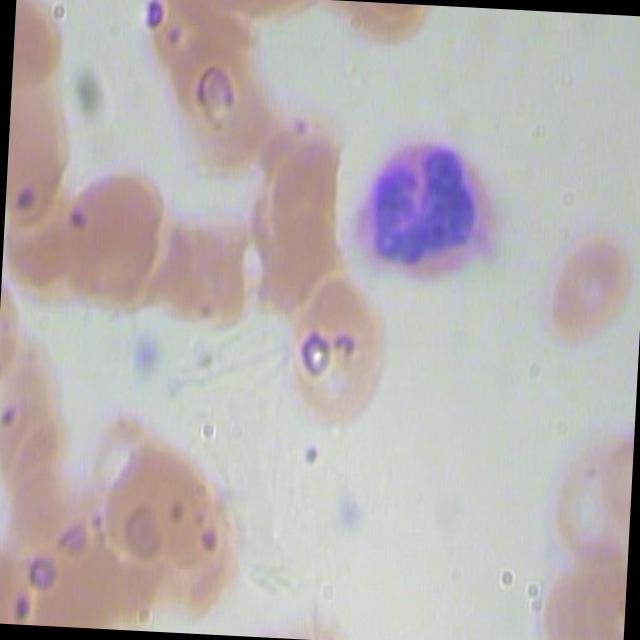Platelets: (331, 485, 372, 535), (127, 328, 168, 378)
RBC: (100, 409, 220, 582), (289, 264, 401, 439), (61, 149, 172, 324), (160, 197, 262, 336), (163, 25, 265, 164), (542, 427, 634, 565), (546, 228, 636, 359), (7, 77, 88, 214)
WBC: (339, 122, 517, 288)
